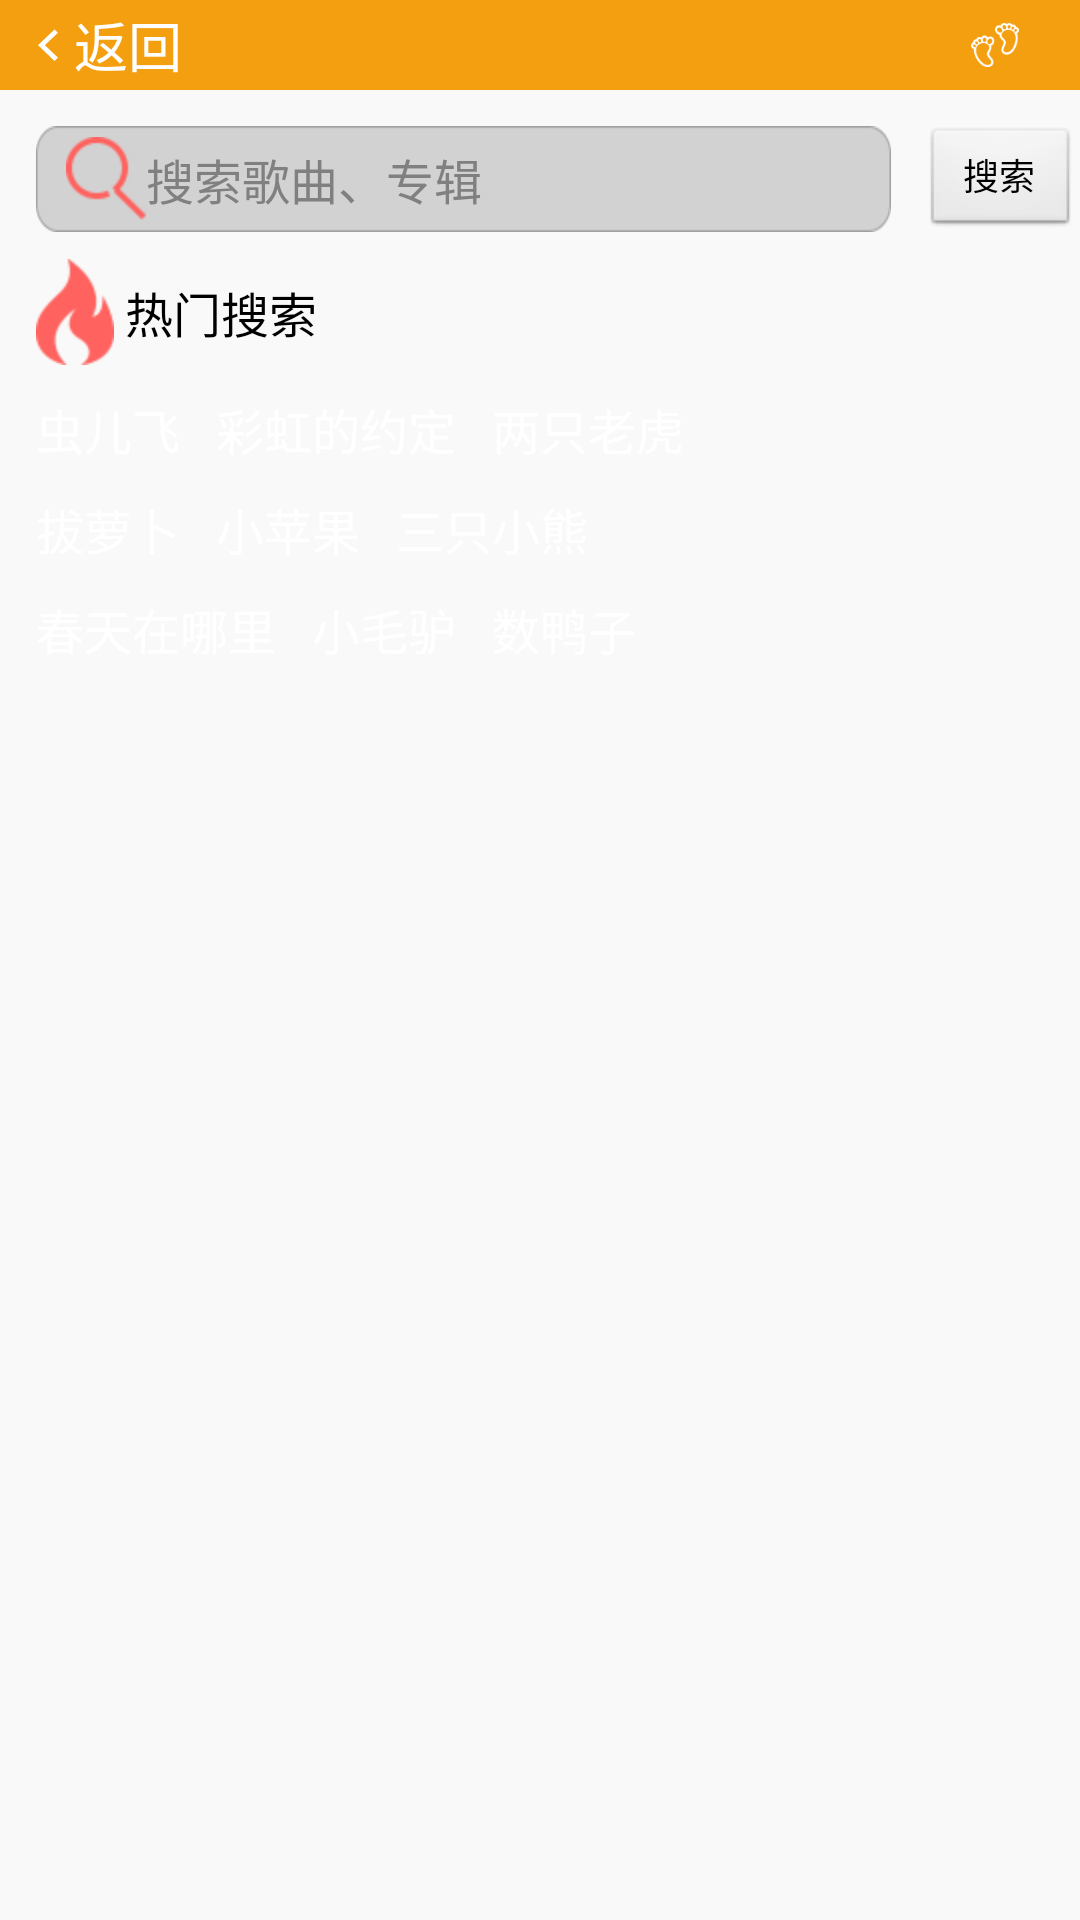

Icons on this 1080px x 1920px Android screen, each with the point to tap as (x,y):
home feet: (995,45)
